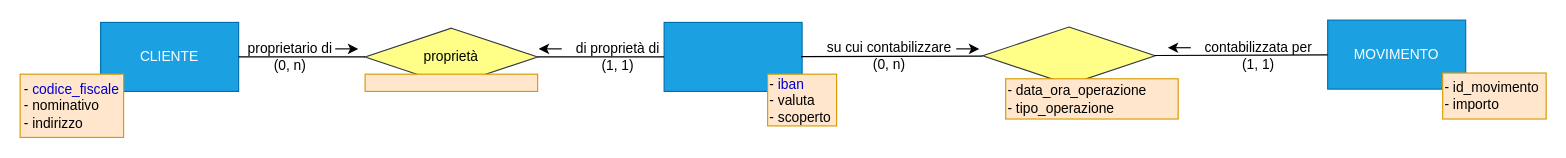
Some shapes in this 1566 by 158 pixel diagram are drawn without their labels. The shapes that lost their labels are listed below. From the top down, each one's centre as x and y in pixels, then its label:
At point (732, 56): "CONTO".
At point (1068, 55): "contabilizzazione".
At point (451, 82): "- data_ora_ intestazione".
